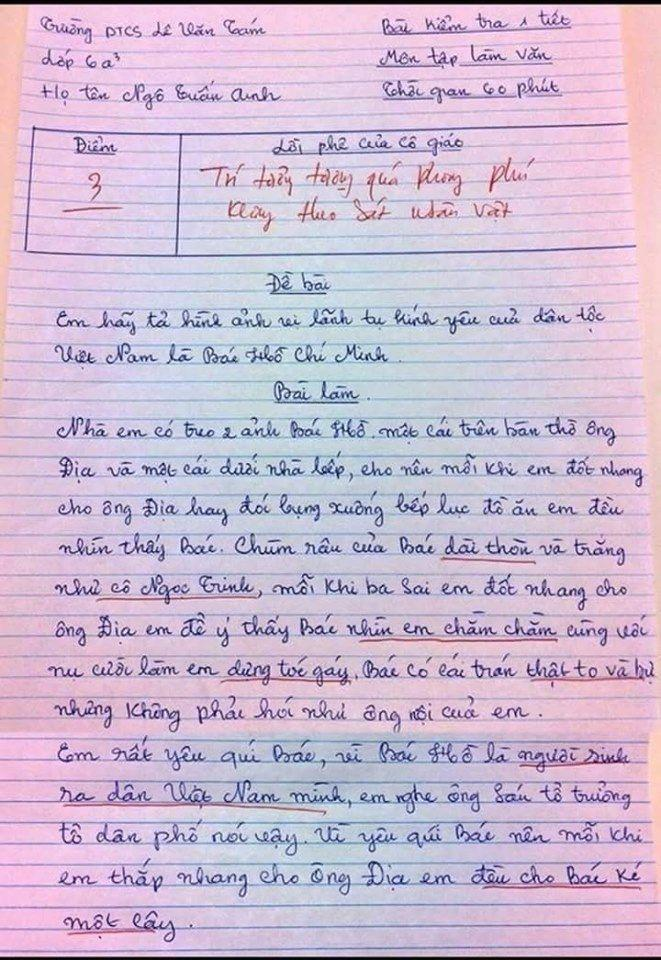text: (54, 850, 649, 902), (50, 565, 633, 615), (48, 647, 661, 693), (54, 445, 650, 490), (54, 485, 629, 530), (51, 609, 652, 652), (56, 815, 648, 858), (50, 688, 545, 739), (53, 771, 637, 814), (50, 736, 635, 778), (53, 410, 620, 453), (55, 527, 629, 569), (49, 300, 608, 339), (193, 153, 539, 204), (49, 336, 403, 373), (222, 194, 516, 236), (36, 12, 270, 48), (39, 77, 288, 110), (265, 129, 466, 164), (379, 6, 574, 40), (379, 76, 563, 106), (61, 905, 196, 944), (375, 44, 555, 69), (268, 375, 377, 408), (39, 45, 124, 73), (68, 134, 119, 164), (80, 169, 108, 205)
